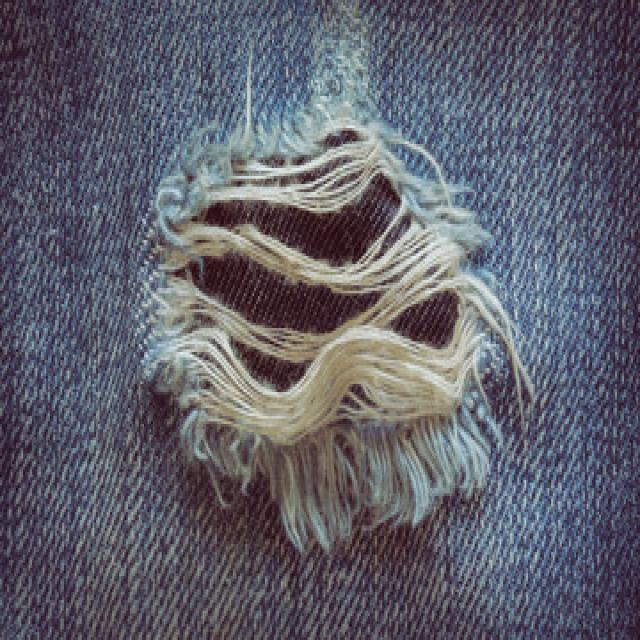Hole: (148, 102, 534, 554)
